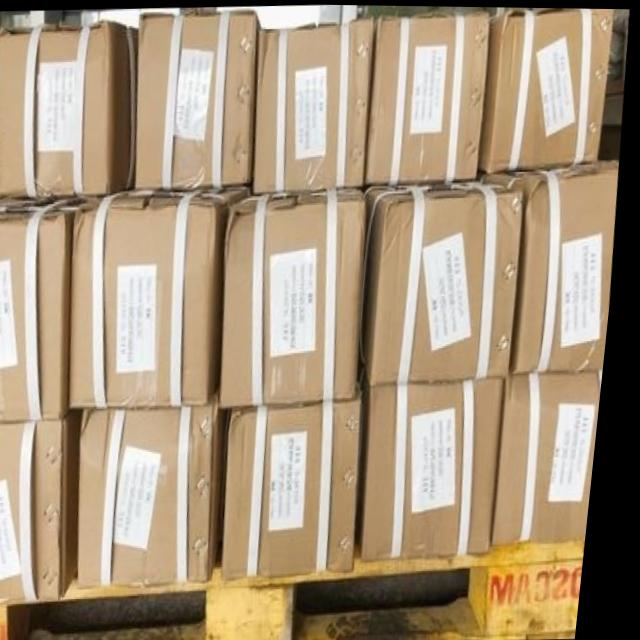box: (77, 185, 252, 409), (364, 165, 527, 386), (228, 184, 368, 409), (90, 386, 237, 589), (364, 367, 510, 558), (231, 382, 369, 580), (0, 20, 138, 197), (0, 196, 106, 420), (514, 156, 620, 373), (368, 6, 489, 184), (138, 11, 260, 187), (483, 7, 613, 172), (256, 17, 373, 192), (502, 369, 610, 543), (0, 408, 91, 603)
